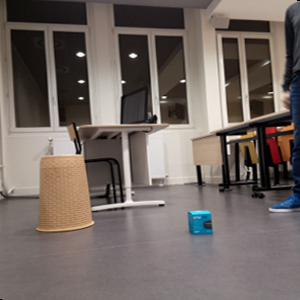medium: (35, 155, 95, 230)
small: (188, 210, 214, 235)
